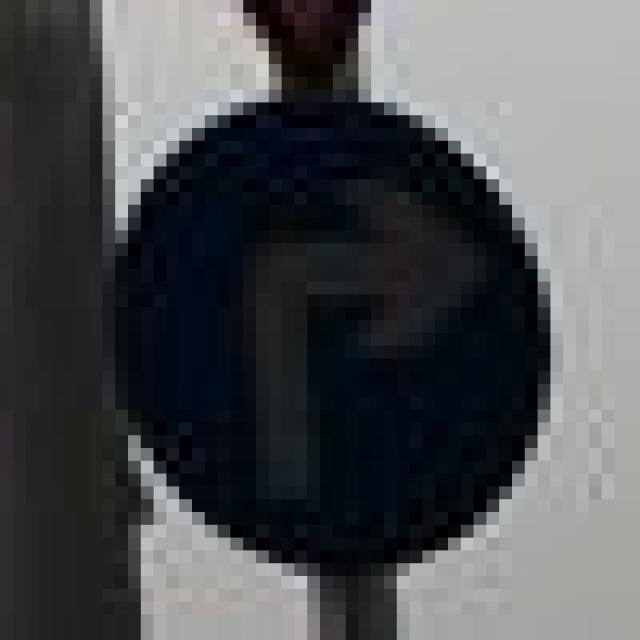railway_crossing: (90, 102, 550, 564)
